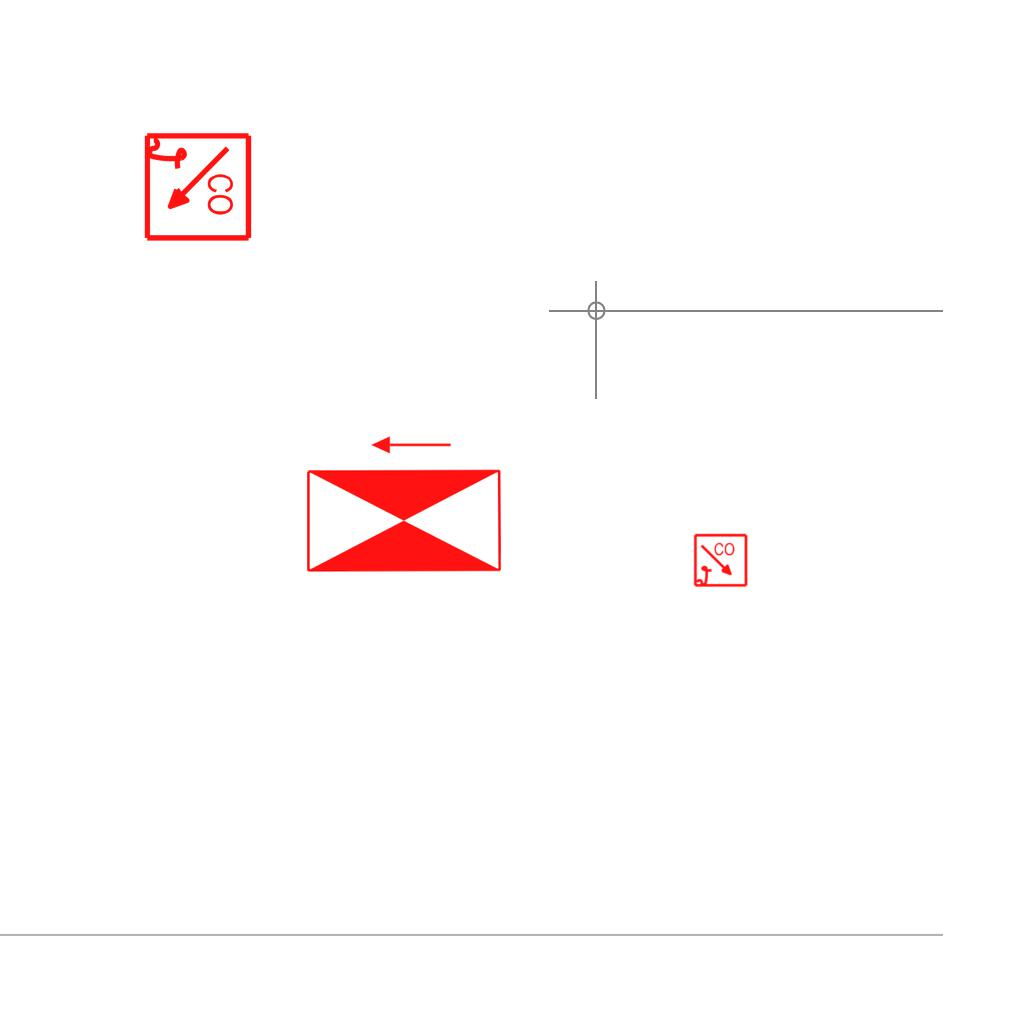Fluchtwegpiktogramm: (300, 431, 508, 578)
ROA_Rauchmelder_optisch_mit_Signalgeber_(Sockelsirene): (140, 131, 253, 244), (693, 533, 749, 589)
